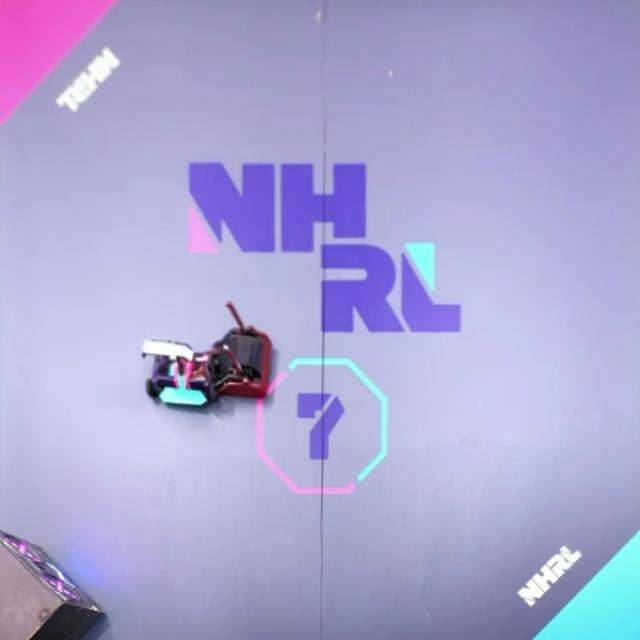housebot: (0, 527, 106, 640)
robot: (208, 300, 272, 398), (141, 338, 220, 408)
